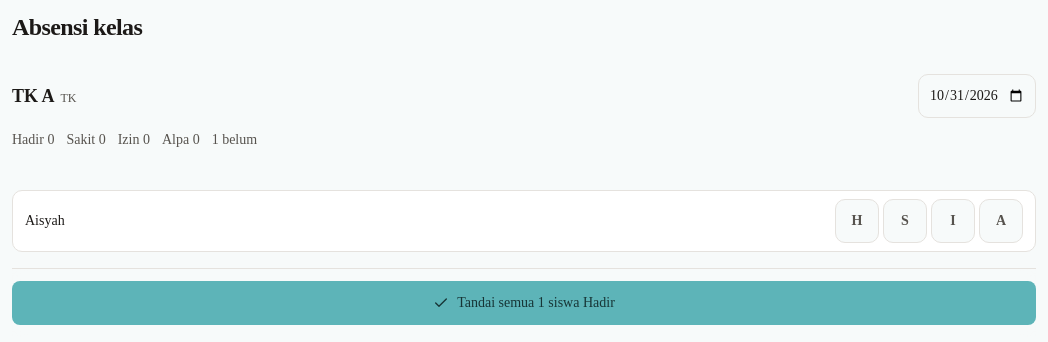
Test case: does not apply an earlier date's failed save to the newly loaded date
Click the radio button named "Hadir". click: (857, 221)
box: [835, 199, 879, 243]
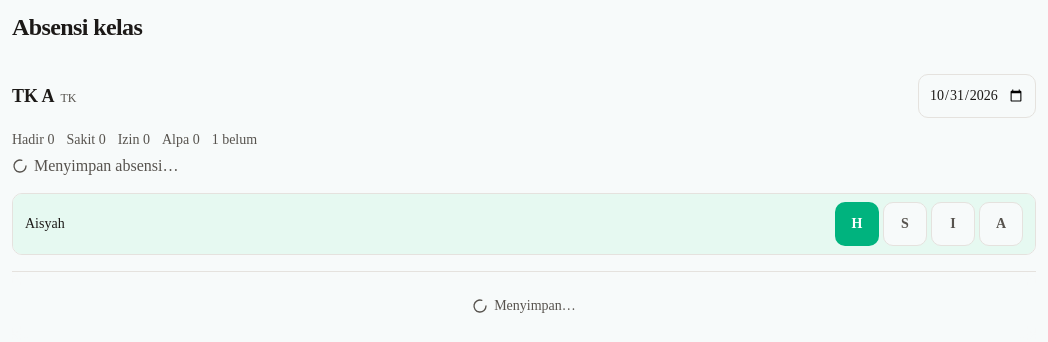
Type "2026-10-30" into the date field named "Tanggal kehadiran". click: (977, 96)
box: [918, 74, 1036, 118]
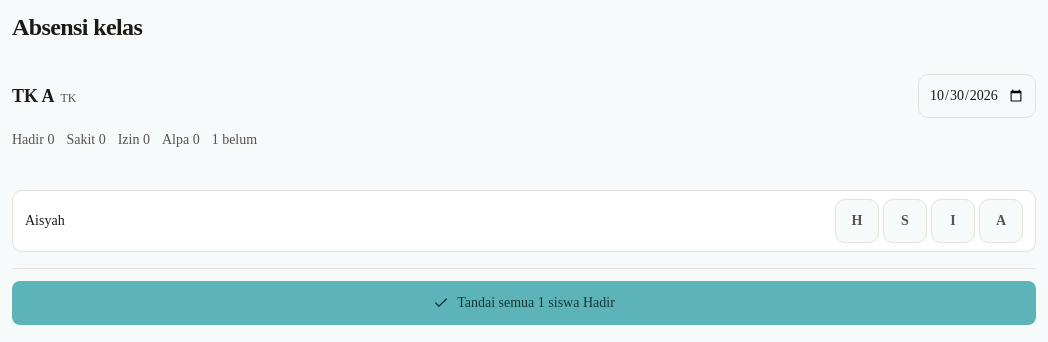
Expected: the message "Menyimpan absensi…" is gone
